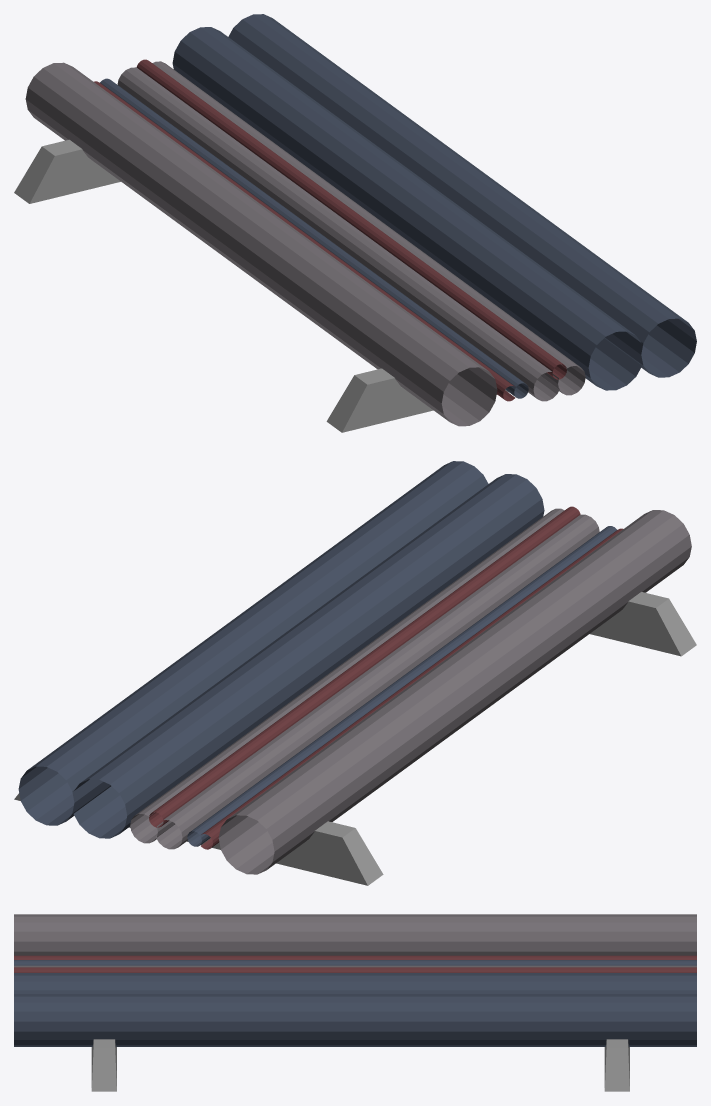
Rendered from Tubos 2.fbx.
3 views of the same model, one above another, from view 1: azimuth 30°, elevation 25°; view 2: azimuth 150°, elevation 25°; view 3: azimuth 270°, elevation 25° (orthographic). The views are drawn at different scales.
Visible parts, largest first — view 1: Cylinder.002, Cylinder.001, Cylinder, Cylinder.004, Cylinder.007, Cylinder.006, Cylinder.003, Cube, Cube.001, Cylinder.005; view 2: Cylinder.002, Cylinder.001, Cylinder, Cylinder.004, Cylinder.007, Cylinder.006, Cylinder.003, Cube.001, Cube, Cylinder.005; view 3: Cylinder, Cylinder.002, Cylinder.001, Cylinder.006, Cylinder.007, Cylinder.005, Cylinder.004, Cube, Cube.001.
Boxes of the visible parts, box(x1,y1,x2,y2) form: Cylinder.002: box(25, 62, 497, 426); Cylinder.001: box(172, 27, 641, 390); Cylinder: box(228, 14, 696, 377); Cylinder.004: box(117, 67, 559, 401); Cylinder.007: box(136, 59, 566, 379); Cylinder.006: box(100, 78, 528, 398); Cylinder.003: box(152, 61, 585, 395); Cube: box(326, 368, 508, 432); Cube.001: box(14, 139, 120, 203); Cylinder.005: box(94, 81, 515, 401); Cylinder.002: box(218, 510, 691, 874); Cylinder.001: box(73, 474, 544, 838); Cylinder: box(18, 461, 488, 825); Cylinder.004: box(156, 514, 599, 849); Cylinder.007: box(149, 506, 580, 827); Cylinder.006: box(187, 526, 616, 846); Cylinder.003: box(130, 508, 564, 843); Cube.001: box(14, 793, 383, 885); Cube: box(590, 592, 696, 656); Cylinder.005: box(201, 528, 623, 849); Cylinder: box(14, 994, 696, 1046); Cylinder.002: box(14, 914, 696, 955); Cylinder.001: box(14, 973, 696, 993); Cylinder.006: box(14, 960, 696, 965); Cylinder.007: box(14, 967, 696, 972); Cylinder.005: box(14, 955, 696, 959); Cylinder.004: box(14, 965, 696, 967); Cube: box(91, 1039, 116, 1091); Cube.001: box(604, 1039, 629, 1091).
Bounding box in the file's own units: 1263 × 274 × 2578.
